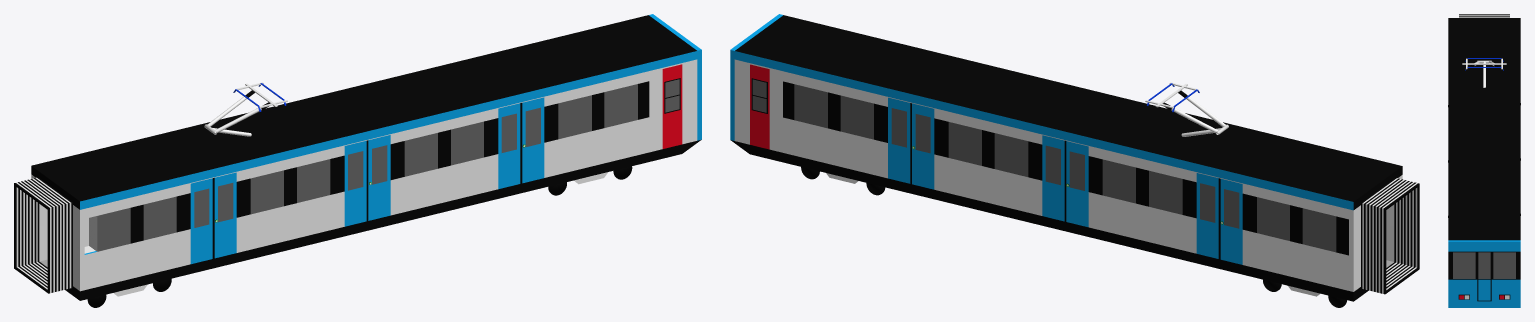
The model's file is Maqueta tren.glb.
The picture shows the model from 3 angles, left to right: view 1: azimuth 30°, elevation 25°; view 2: azimuth 150°, elevation 25°; view 3: azimuth 270°, elevation 25°; orthographic projection. The views are drawn at different scales.
Visible parts, largest first — view 1: Tren, Cambio de coche; view 2: Tren, Cambio de coche; view 3: Tren, Cambio de coche, Plane.013, Cylinder.004, Faros 1, Faros 2.
Boxes of the visible parts, x1=… form: Tren: x1=31, y1=14, x2=701, y2=300; Cambio de coche: x1=14, y1=177, x2=72, y2=293; Tren: x1=730, y1=14, x2=1402, y2=301; Cambio de coche: x1=1361, y1=177, x2=1419, y2=294; Tren: x1=1448, y1=18, x2=1520, y2=307; Cambio de coche: x1=1459, y1=14, x2=1509, y2=17; Plane.013: x1=1462, y1=58, x2=1506, y2=69; Cylinder.004: x1=1483, y1=61, x2=1485, y2=87; Faros 1: x1=1458, y1=294, x2=1469, y2=299; Faros 2: x1=1499, y1=294, x2=1510, y2=299.
Bounding box in the file's own units: 4.58 × 1.07 × 0.6063.
